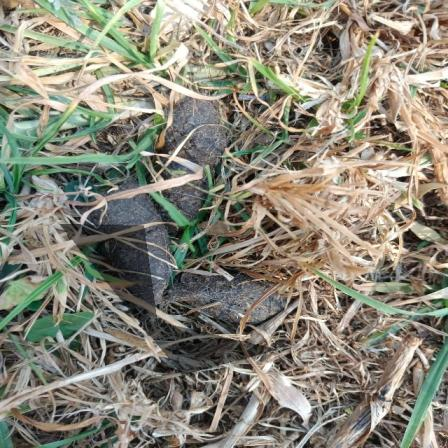dog-poop: (85, 108, 280, 344)
